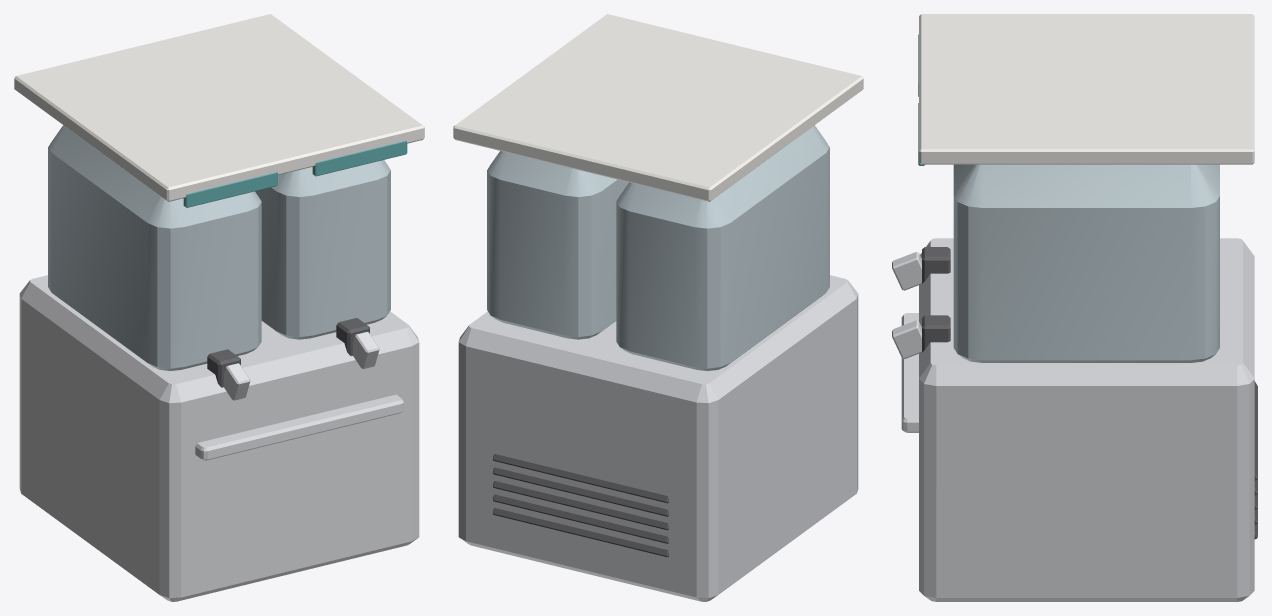
Rendered from fast-food-and-drive-thru-frozen-drink-machine-88e70276__16154.glb.
3 renders of one model, left to right at view 1: azimuth 30°, elevation 25°; view 2: azimuth 150°, elevation 25°; view 3: azimuth 270°, elevation 25°, orthographic. The views are drawn at different scales.
Parts seen in each view (by area): view 1: frozen-drink-machine; view 2: frozen-drink-machine; view 3: frozen-drink-machine.
Boxes of the visible parts, bbox=[...] form: frozen-drink-machine: bbox=[14, 14, 424, 601]; frozen-drink-machine: bbox=[453, 14, 863, 601]; frozen-drink-machine: bbox=[892, 14, 1257, 601].
Size of the model in its own units: 0.56 by 0.87 by 0.6318.
